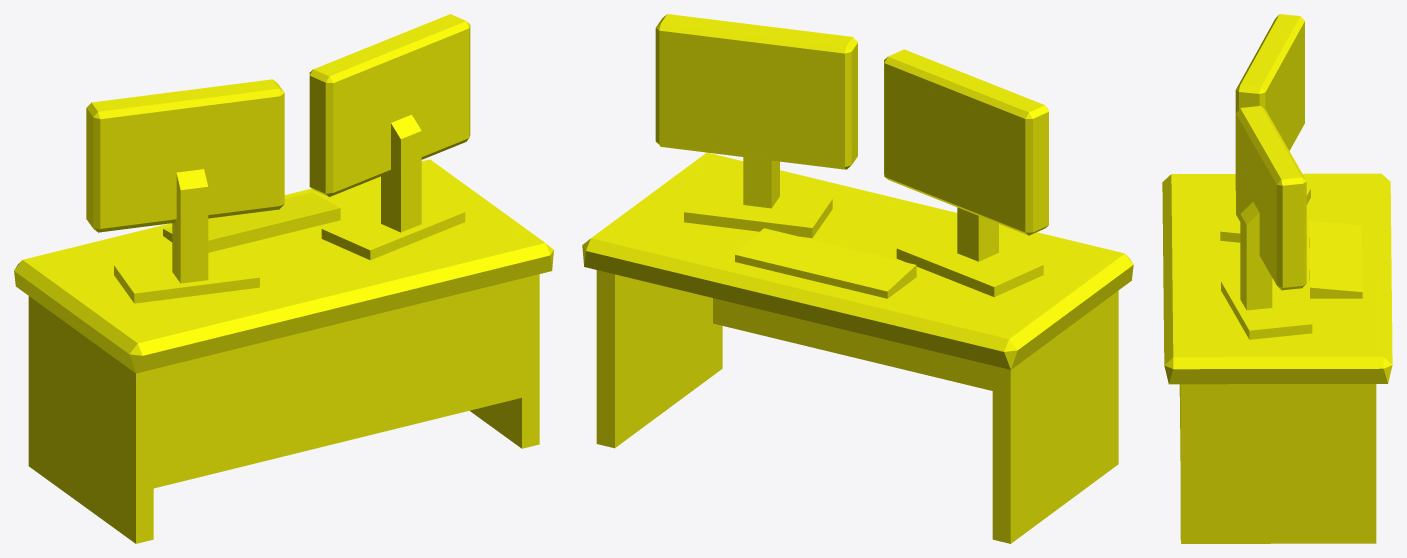
3 views of the same model, side by side, from view 1: azimuth 30°, elevation 25°; view 2: azimuth 150°, elevation 25°; view 3: azimuth 270°, elevation 25° (orthographic). The views are drawn at different scales.
Parts seen in each view (by area): view 1: tablePC_on; view 2: tablePC_on; view 3: tablePC_on.
Part boxes in pixels (<box>): tablePC_on: <box>14,14,553,543</box>; tablePC_on: <box>582,14,1133,543</box>; tablePC_on: <box>1162,14,1392,543</box>.
Bounding box in the file's own units: 0.0169 × 0.0146 × 0.00858.
Materials: 1 (1 with a texture image).
